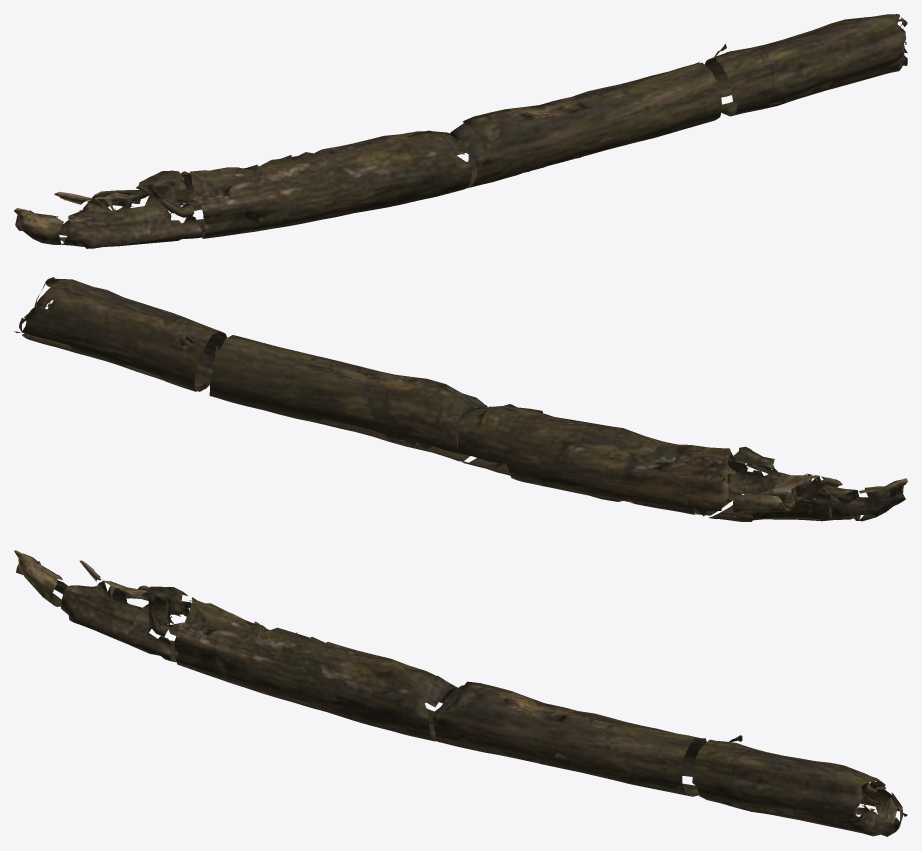
File: dead_tree_trunk.glb
3 renders of one model, top to bottom at view 1: azimuth 30°, elevation 25°; view 2: azimuth 150°, elevation 25°; view 3: azimuth 330°, elevation 25°, orthographic.
Parts seen in each view (by area): view 1: dead_tree_trunk; view 2: dead_tree_trunk; view 3: dead_tree_trunk.
Boxes of the visible parts, <box> form: dead_tree_trunk: <box>14,14,907,248</box>; dead_tree_trunk: <box>14,277,907,521</box>; dead_tree_trunk: <box>14,550,907,836</box>.
Size of the model in its own units: 3.05 by 0.2842 by 0.2712.
Materials: 1 (1 with a texture image).
